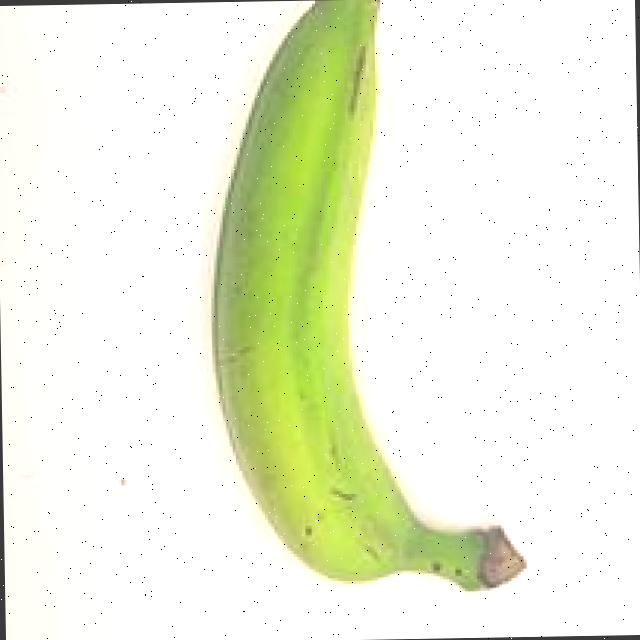Unripe: (184, 0, 552, 630)
